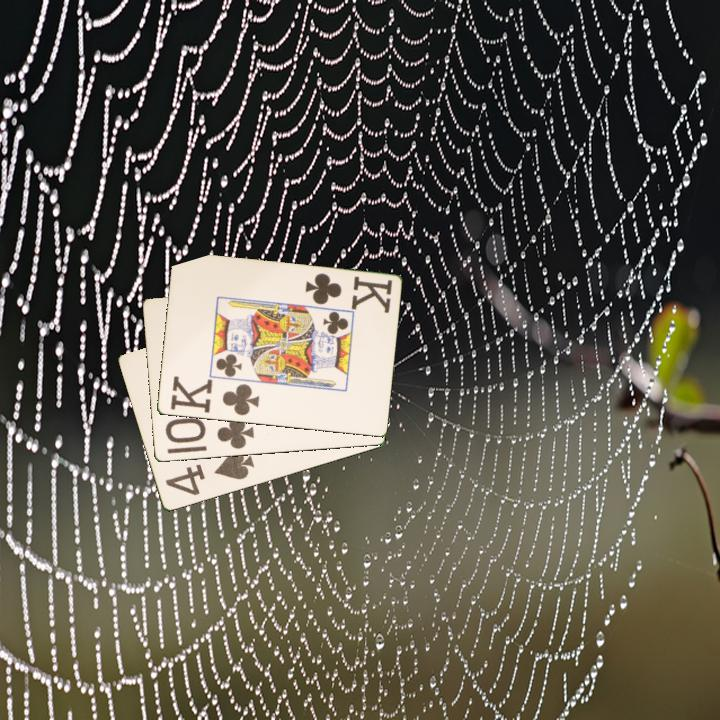10c: (162, 414, 256, 452)
4s: (162, 448, 257, 499)
Kc: (167, 374, 262, 419), (301, 270, 395, 315)
